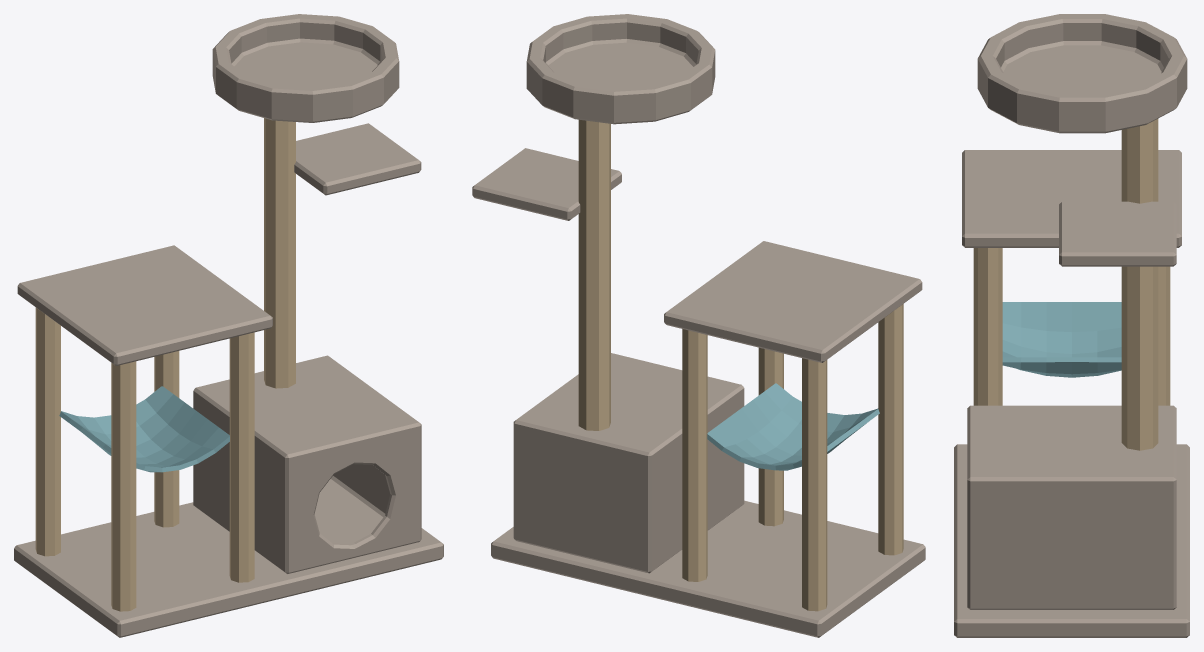
The model's file is CatTree.fbx.
3 renders of one model, left to right at view 1: azimuth 30°, elevation 25°; view 2: azimuth 150°, elevation 25°; view 3: azimuth 270°, elevation 25°, orthographic. The views are drawn at different scales.
Visible parts, largest first — view 1: TreeMesh; view 2: TreeMesh; view 3: TreeMesh.
Boxes of the visible parts, x1,y1,x2,y2 form: TreeMesh: (14,14,443,637); TreeMesh: (472,14,925,637); TreeMesh: (954,14,1189,637).
Size of the model in its own units: 1.72 by 2.27 by 0.9.
